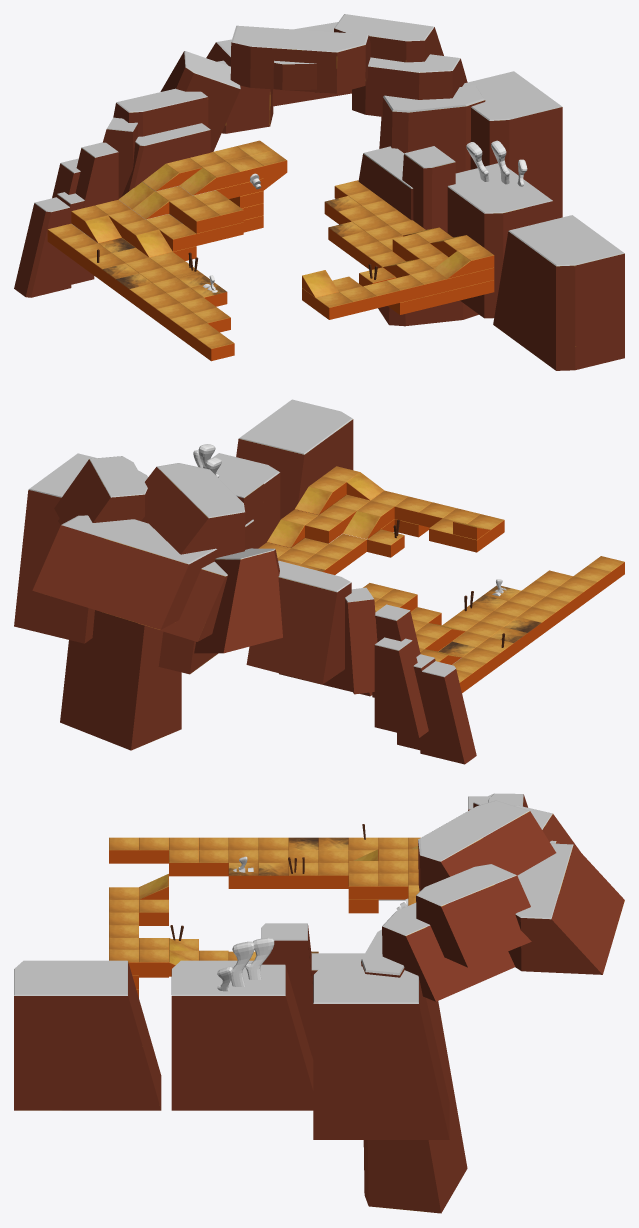
The model's file is Map.fbx.
3 views of the same model, one above another, from view 1: azimuth 30°, elevation 25°; view 2: azimuth 150°, elevation 25°; view 3: azimuth 270°, elevation 25° (orthographic). The views are drawn at different scales.
Parts seen in each view (by area): view 1: Background.002, DecorBones1.002, TileWild1.097, TileWild1.104, TileWild1.121, TileWild4.013, TileWild1.106, TileWild4.014, TileWild4.019, TileWild4.015, TileWild4.018, TileWild4.023 (+31 smaller); view 2: Background.002, TileWild1.138, TileWild1.154, TileWild4.022, TileWild4.020, TileWild4.021, TileWild4.023, TileWild1.125, TileWild1.124, TileWild1.123, DecorBones1.002, TileWild1.091 (+16 smaller); view 3: Background.002, DecorBones1.002, TileWild1.108, TileWild1.107, TileWild1.094, TileWild1.095, TileWild1.096, TileWild1.097, TileWild1.140, TileWild1.087, TileWild2.008, TileWild1.123 (+3 smaller).
Boxes of the visible parts, x1,y1,x2,y2 form: Background.002: (14,14,624,370); DecorBones1.002: (466,140,527,186); TileWild1.097: (197,333,234,361); TileWild1.104: (183,206,220,233); TileWild1.121: (315,292,352,319); TileWild4.013: (135,230,172,257); TileWild1.106: (159,224,196,251); TileWild4.014: (85,215,121,243); TileWild4.019: (302,270,338,297); TileWild4.015: (132,191,169,219); TileWild4.018: (179,168,216,195); TileWild4.023: (434,251,470,278); Background.002: (14,399,476,764); TileWild1.138: (305,515,342,543); TileWild1.154: (367,529,404,557); TileWild4.022: (295,486,332,514); TileWild4.020: (343,511,380,539); TileWild4.021: (267,519,304,547); TileWild4.023: (346,472,384,500); TileWild1.125: (394,496,431,524); TileWild1.124: (418,502,456,527); TileWild1.123: (429,518,460,546); DecorBones1.002: (193,444,221,477); TileWild1.091: (532,596,569,624); Background.002: (14,793,624,1213); DecorBones1.002: (217,937,274,991); TileWild1.108: (348,873,378,899); TileWild1.107: (378,873,408,899); TileWild1.094: (199,850,228,876); TileWild1.095: (169,850,198,876); TileWild1.096: (139,837,168,863); TileWild1.097: (109,837,138,863); TileWild1.140: (139,949,168,975); TileWild1.087: (318,863,348,888); TileWild2.008: (258,863,288,888); TileWild1.123: (139,900,168,925).
Size of the model in its own units: 1968 by 1119 by 2040.
